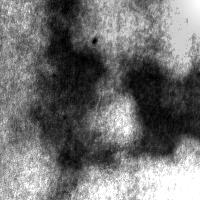patches: (63, 0, 200, 113), (37, 1, 102, 131), (122, 56, 200, 159), (139, 72, 200, 150), (45, 111, 109, 175), (57, 140, 119, 198)
